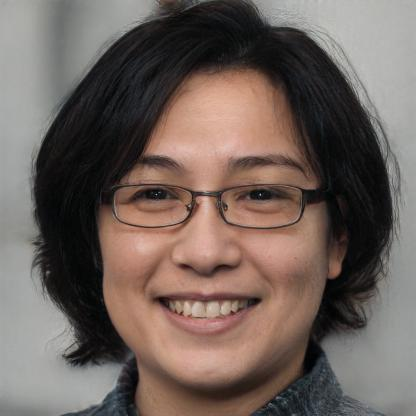glasses: (109, 183, 316, 234)
